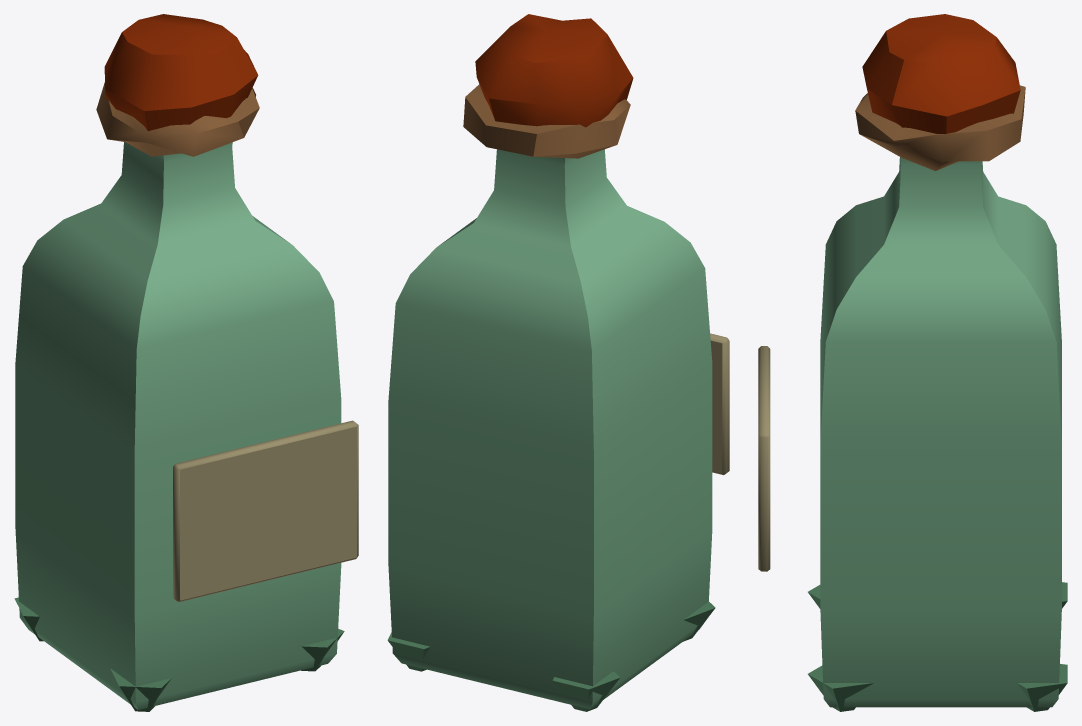
The model's file is Madde_Zac_Yagi.fbx.
3 renders of one model, left to right at view 1: azimuth 30°, elevation 25°; view 2: azimuth 150°, elevation 25°; view 3: azimuth 270°, elevation 25°, orthographic.
Visible parts, largest first — view 1: Madde_Zac_Yagi_Model; view 2: Madde_Zac_Yagi_Model; view 3: Madde_Zac_Yagi_Model.
Boxes of the visible parts, x1,y1,x2,y2 form: Madde_Zac_Yagi_Model: (14,14,358,711); Madde_Zac_Yagi_Model: (387,14,729,711); Madde_Zac_Yagi_Model: (758,14,1067,711).
Size of the model in its own units: 0.0735 by 0.1946 by 0.0863.
